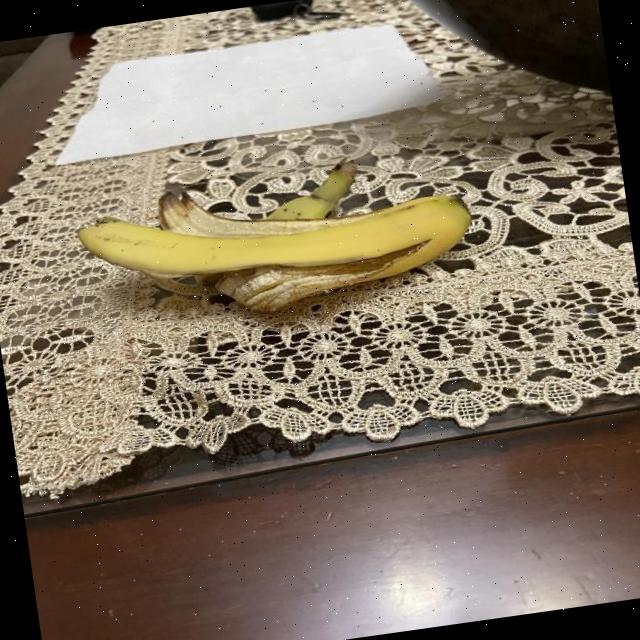banana-peel: (70, 146, 480, 338)
